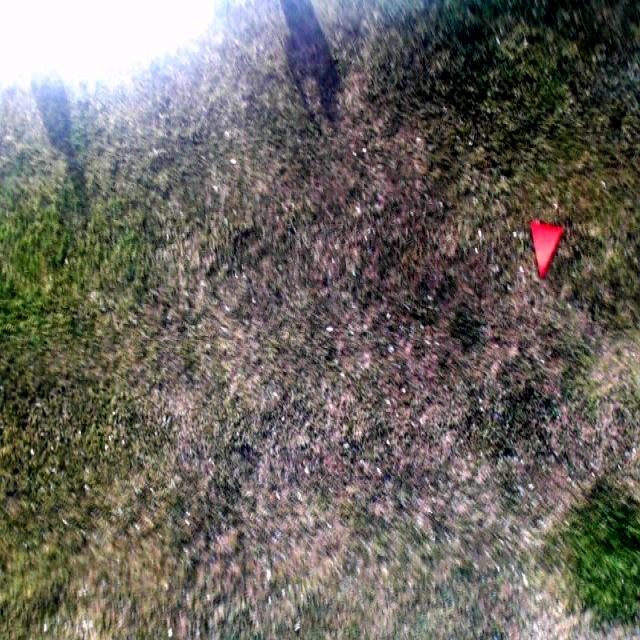red_triangle: (529, 220, 565, 280)
